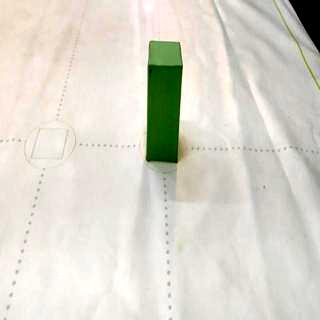greenbox: (143, 38, 185, 164)
